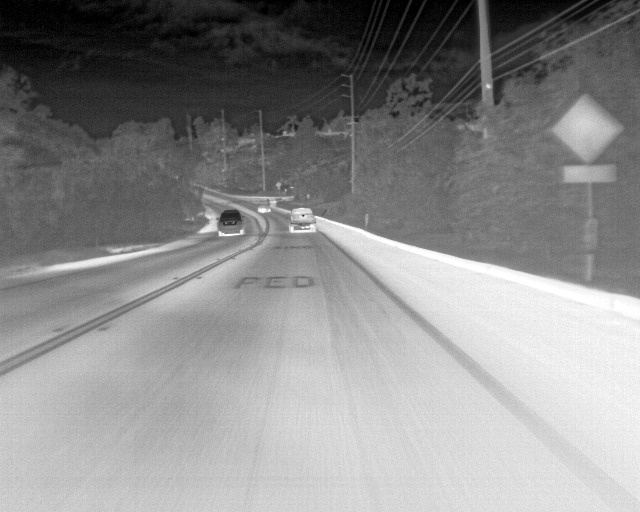vehicle: (217, 209, 244, 237), (289, 206, 315, 233)
